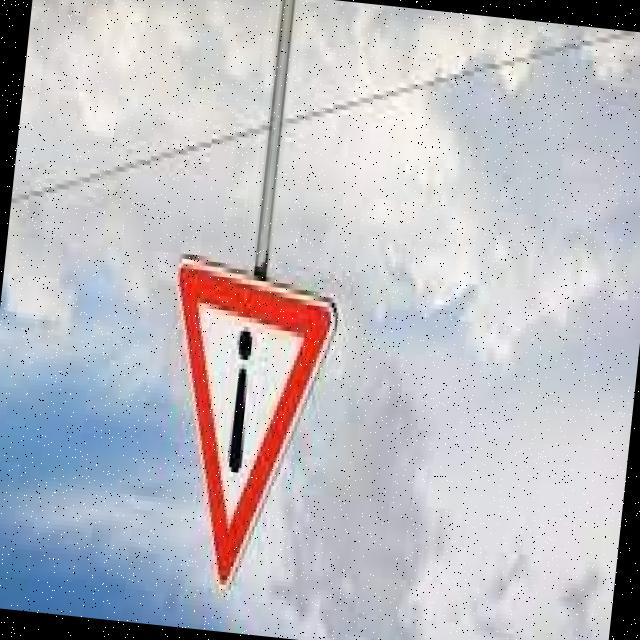warning: (131, 241, 346, 610)
